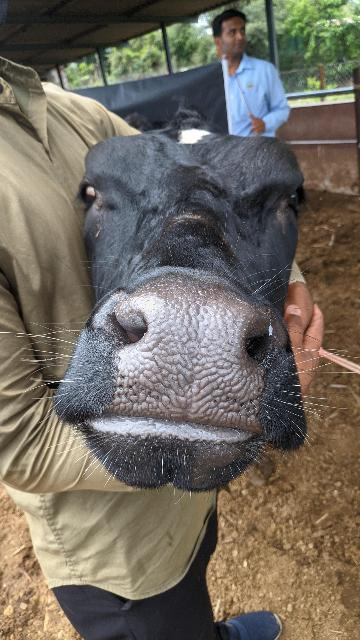Muzzle: (132, 296, 250, 426)
